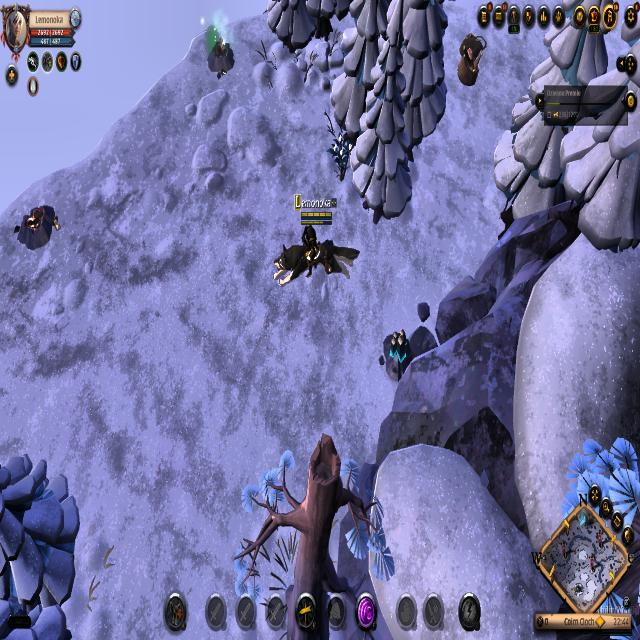fiber tier 4: (330, 132, 352, 178)
ore tier 4: (382, 326, 416, 384)
